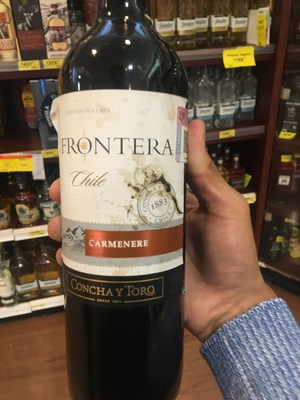frontera carmenere: (49, 10, 194, 400)
